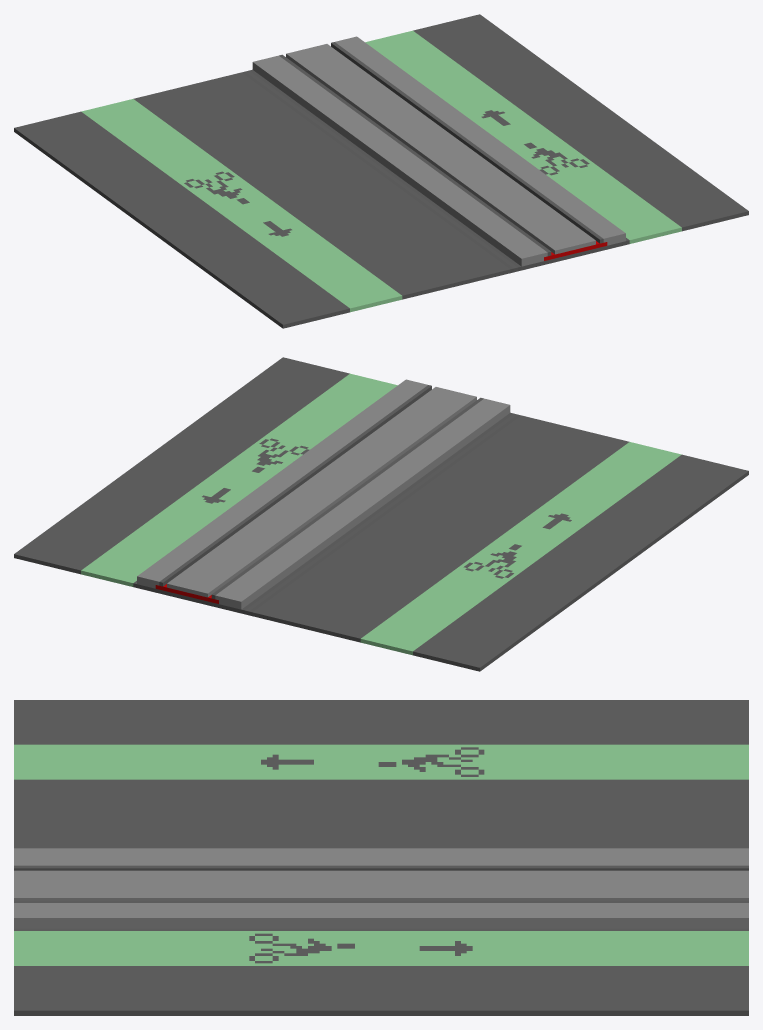
Rendered from kfarr_bases_valencia_tram.obj.
3 views of the same model, one above another, from view 1: azimuth 30°, elevation 25°; view 2: azimuth 150°, elevation 25°; view 3: azimuth 270°, elevation 25° (orthographic). The views are drawn at different scales.
Bounding box in the file's own units: 125 × 3 × 125.
